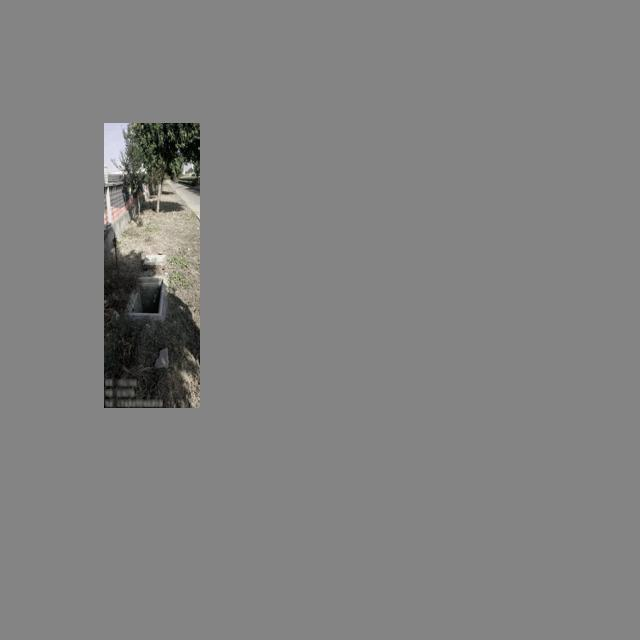lose: (123, 276, 164, 317)
